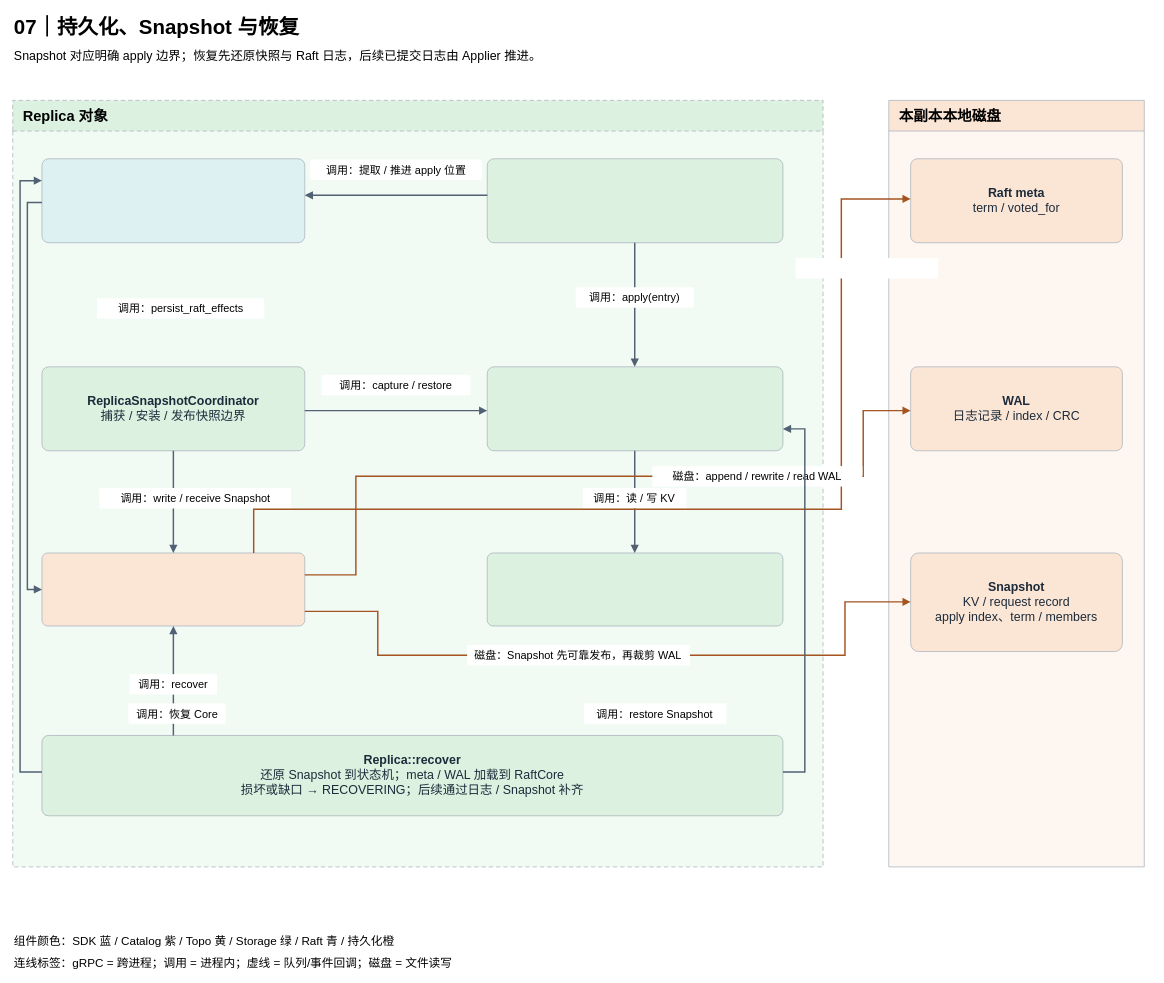
This 1164x983 diagram has some shape labels left out. Each missing label, with the centre of its shape:
"KvStateMachine request record / apply index / term" belongs at (635,408).
"MapEngine 运行时内存 KV" belongs at (635,589).
"PersistEngine 文件编码、校验、可靠写入" belongs at (173,589).
"RaftCore / ReplicaLoop meta / WAL Effects 加载 Raft 状态与日志" belongs at (173,200).
"ReplicaApplier extract committed → apply" belongs at (635,200).
"磁盘：save / load meta" belongs at (866,268).
